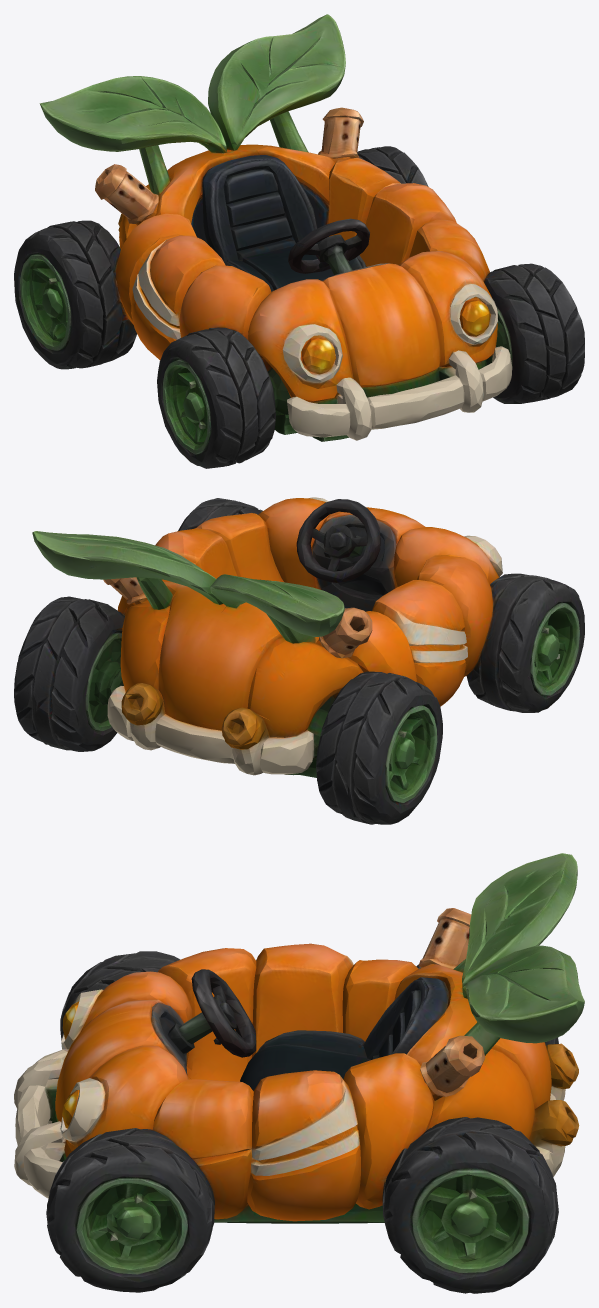
File: pumpkin-capybara-kart-candidate.glb
3 renders of one model, top to bottom at view 1: azimuth 30°, elevation 25°; view 2: azimuth 150°, elevation 25°; view 3: azimuth 270°, elevation 25°, orthographic. The views are drawn at different scales.
Visible parts, largest first — view 1: pumpkin-capybara_kart_candidate; view 2: pumpkin-capybara_kart_candidate; view 3: pumpkin-capybara_kart_candidate.
Boxes of the visible parts, bbox=[...] form: pumpkin-capybara_kart_candidate: bbox=[14, 14, 584, 468]; pumpkin-capybara_kart_candidate: bbox=[14, 497, 584, 824]; pumpkin-capybara_kart_candidate: bbox=[14, 853, 584, 1293].
Bounding box in the file's own units: 3.34 × 2.12 × 3.9.
Materials: 1 (1 with a texture image).
